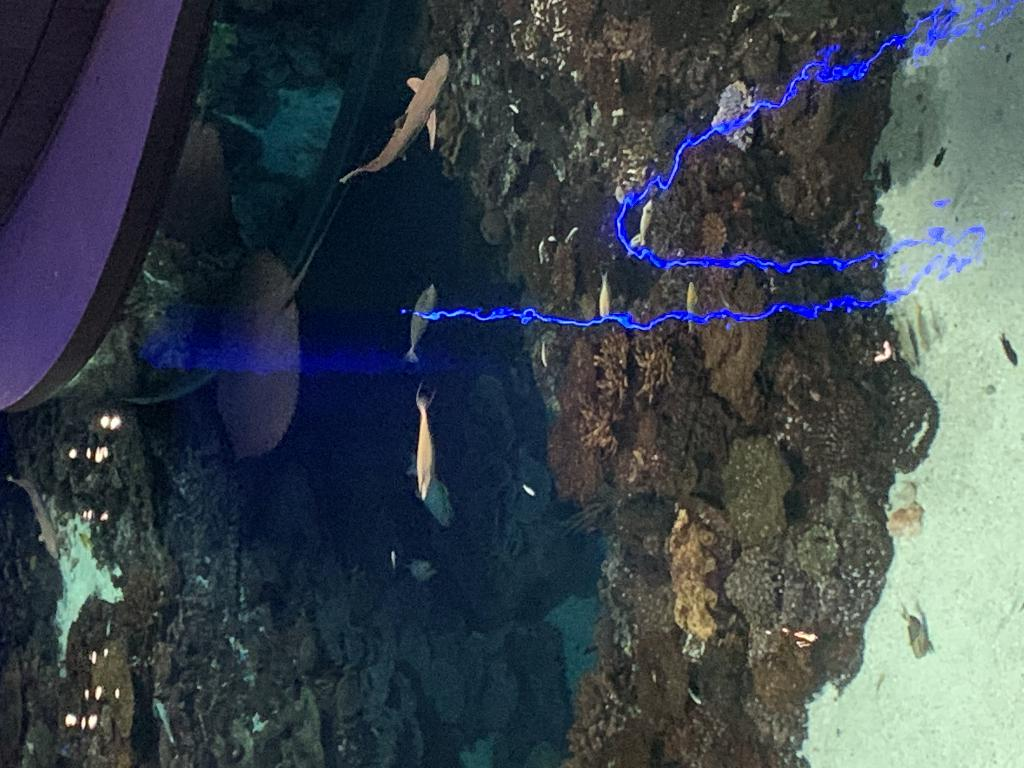fish: (408, 384, 438, 502), (406, 286, 432, 360)
shark: (336, 51, 452, 187)
stingray: (212, 247, 302, 461)
